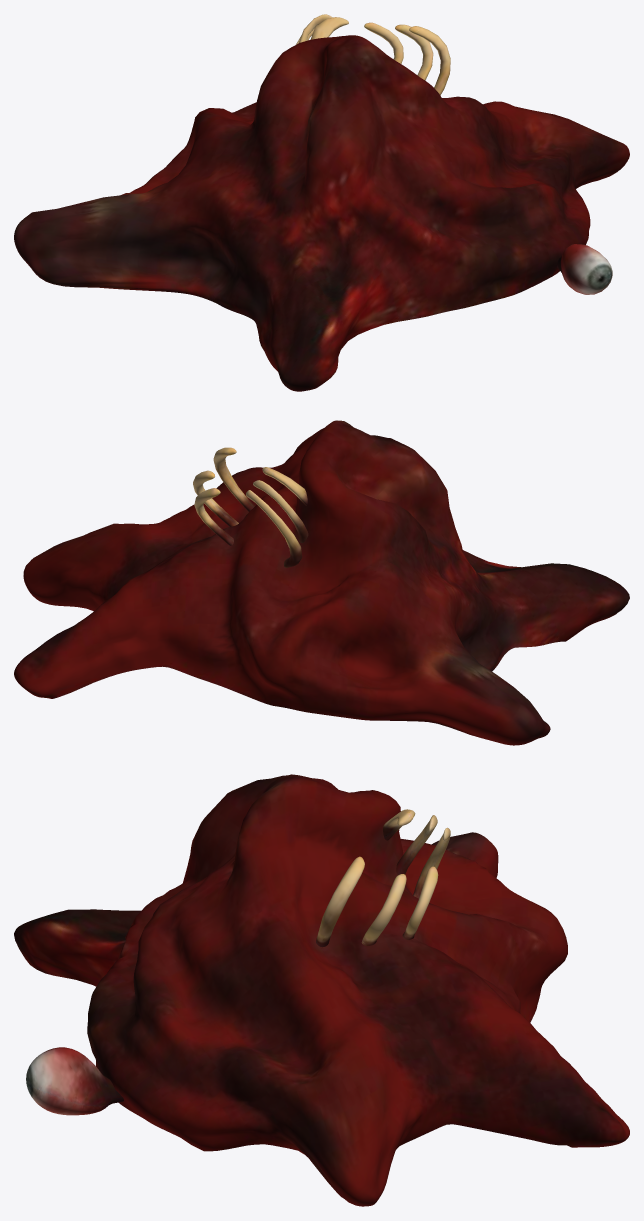
File: meat.fbx
3 renders of one model, top to bottom at view 1: azimuth 30°, elevation 25°; view 2: azimuth 150°, elevation 25°; view 3: azimuth 270°, elevation 25°, orthographic. The views are drawn at different scales.
Parts seen in each view (by area): view 1: meat; view 2: meat; view 3: meat.
Boxes of the visible parts, x1=… form: meat: x1=14, y1=14, x2=629, y2=391; meat: x1=14, y1=420, x2=629, y2=745; meat: x1=14, y1=774, x2=629, y2=1206.
Bounding box in the file's own units: 173 × 70.71 × 136.
